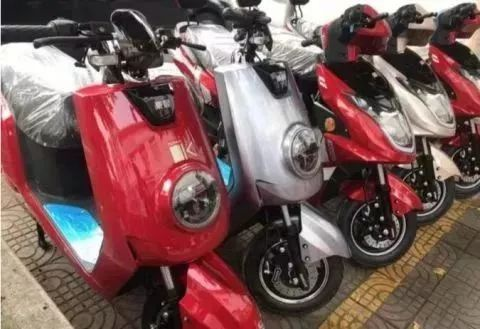non-vehicle: (2, 19, 260, 329), (200, 52, 346, 301), (313, 13, 412, 251), (364, 6, 454, 220), (433, 1, 480, 188)
